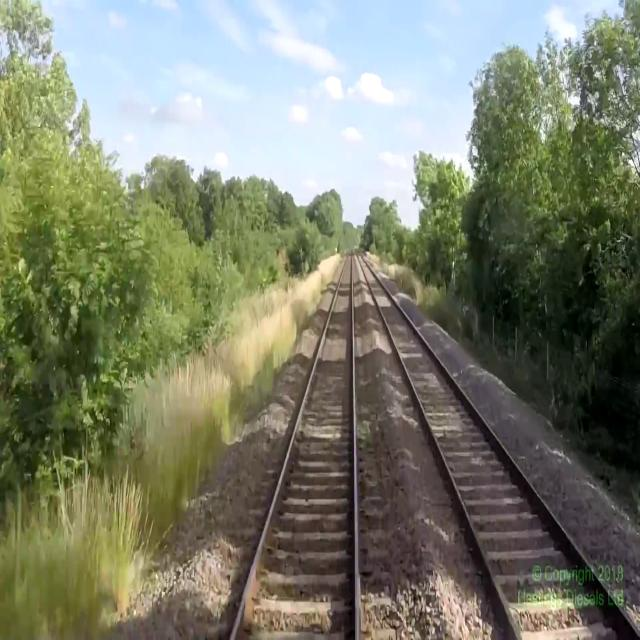rail-track: (357, 254, 638, 639), (234, 255, 354, 639)
